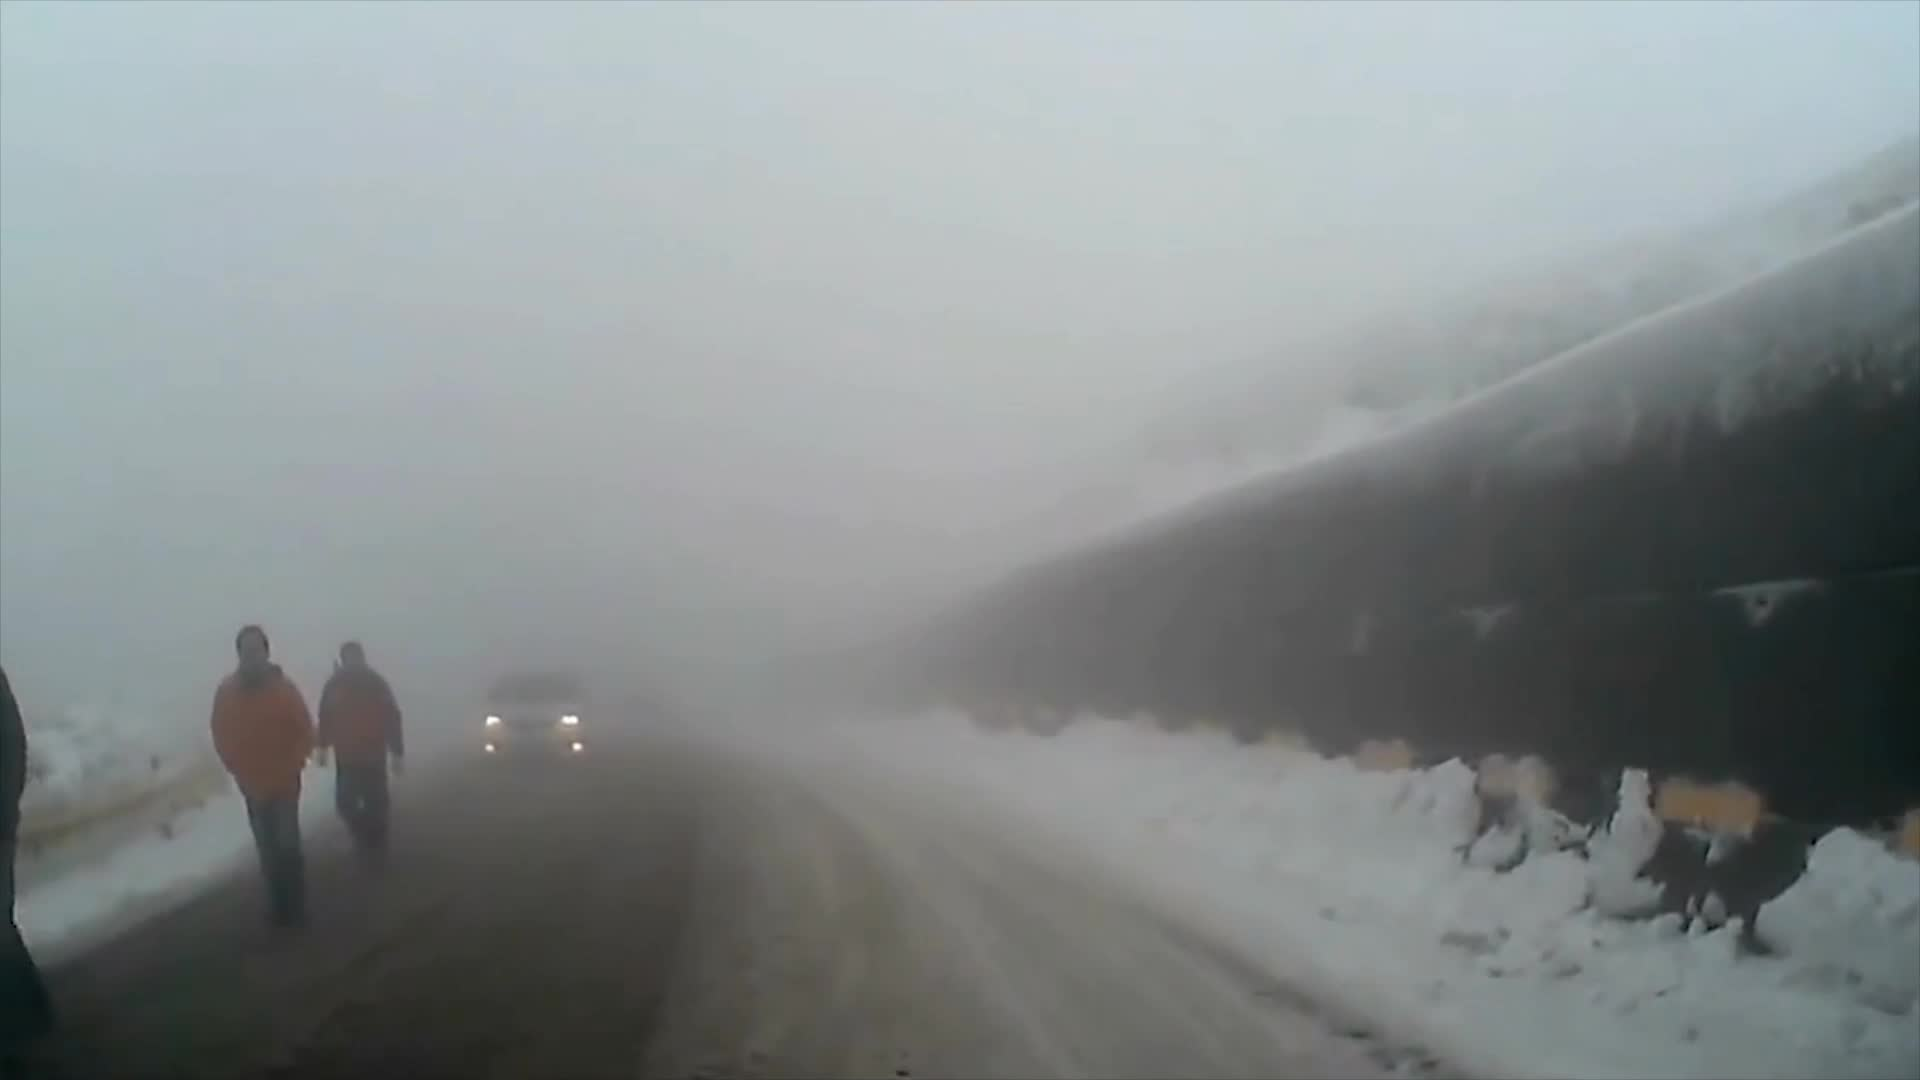pedestrian: (213, 625, 319, 932), (318, 641, 401, 872)
vehicle: (477, 667, 589, 766)
